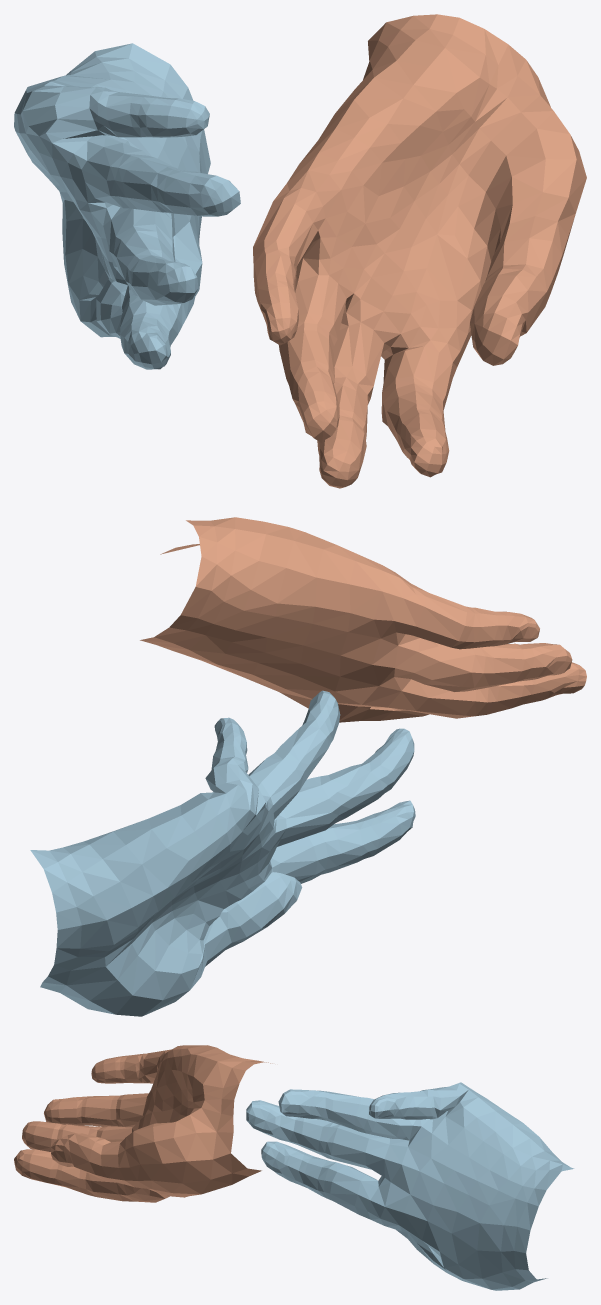
Rendered from frame_033.glb.
3 views of the same model, one above another, from view 1: azimuth 30°, elevation 25°; view 2: azimuth 150°, elevation 25°; view 3: azimuth 270°, elevation 25° (orthographic). The views are drawn at different scales.
Visible parts, largest first — view 1: world; view 2: world; view 3: world.
Part boxes in pixels (bbox=[...]): world: bbox=[14, 14, 586, 488]; world: bbox=[30, 517, 586, 1016]; world: bbox=[14, 1045, 574, 1290].
Size of the model in its own units: 0.1351 by 0.1396 by 0.28.
